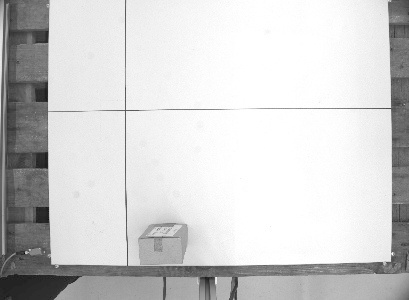b6: (135, 219, 188, 266)
